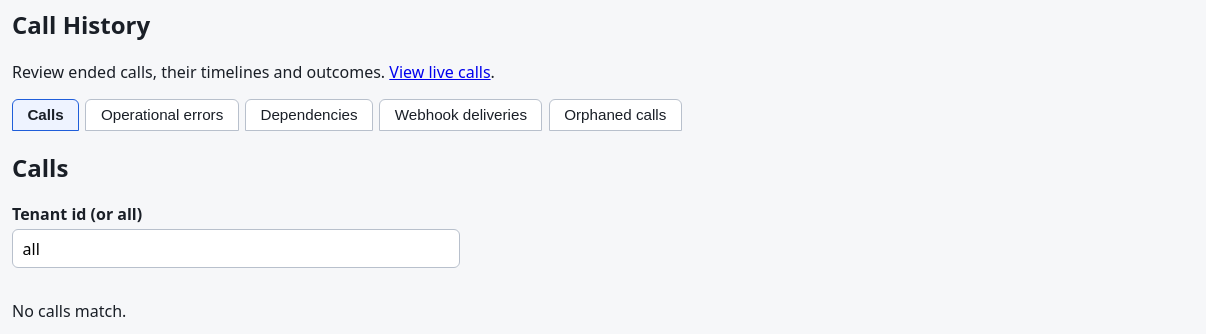
Test: RuntimeScreen › shows orphans as detection only
What coordinates should you click on to do the following:
click the tab "Orphaned calls"
I would click on:
 (615, 115)
Its box is left=549, top=99, right=682, bottom=131.
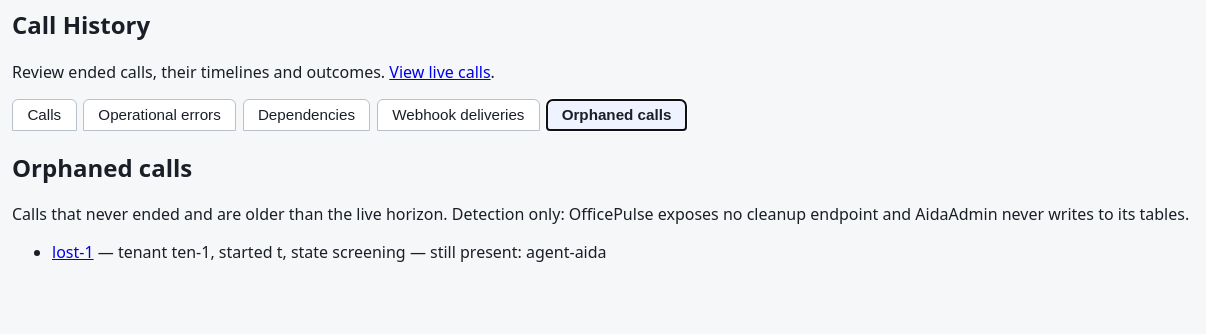
Expected: the list item "still present: agent-aida" is shown, left=406, top=241, right=606, bottom=263
Expected: the text "Detection only" is shown, left=12, top=203, right=1189, bottom=225
